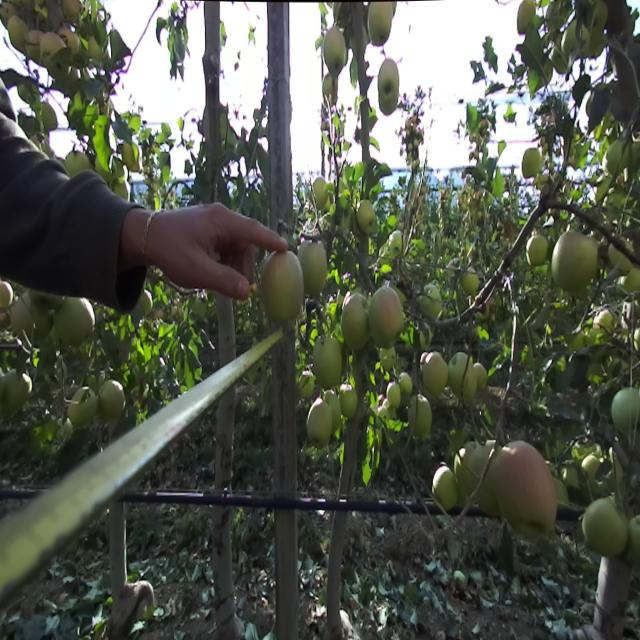apple: (495, 439, 557, 539), (263, 250, 303, 320), (550, 231, 597, 289), (582, 498, 628, 556), (469, 441, 500, 518), (368, 287, 402, 349), (54, 296, 94, 342), (340, 294, 370, 352), (12, 296, 50, 338), (313, 336, 342, 388), (611, 386, 640, 436), (299, 241, 327, 292), (40, 33, 71, 79), (449, 352, 476, 402), (67, 385, 97, 425), (307, 398, 331, 448), (4, 370, 32, 410), (432, 466, 458, 509), (323, 26, 345, 76), (368, 1, 392, 45), (408, 394, 432, 438), (423, 352, 447, 395), (562, 21, 589, 57), (603, 140, 629, 176), (378, 59, 399, 102), (100, 381, 124, 417), (516, 0, 536, 35), (521, 147, 542, 180), (526, 236, 548, 267), (456, 449, 471, 494), (356, 200, 376, 233), (422, 284, 442, 317), (593, 0, 607, 47), (628, 514, 640, 566), (123, 141, 143, 172), (326, 390, 340, 434), (25, 28, 42, 64), (64, 149, 88, 174), (582, 453, 600, 486), (310, 177, 326, 212), (8, 17, 24, 51), (340, 386, 356, 418), (62, 30, 82, 55), (322, 74, 337, 102), (625, 270, 640, 296), (61, 0, 80, 20), (300, 371, 314, 398), (474, 362, 487, 390), (387, 382, 401, 407), (1, 1, 14, 27), (89, 36, 102, 62), (464, 269, 478, 293), (594, 311, 612, 329), (380, 346, 396, 366), (399, 373, 412, 394), (390, 230, 402, 249), (144, 289, 152, 316), (380, 102, 395, 115), (377, 407, 390, 420)
